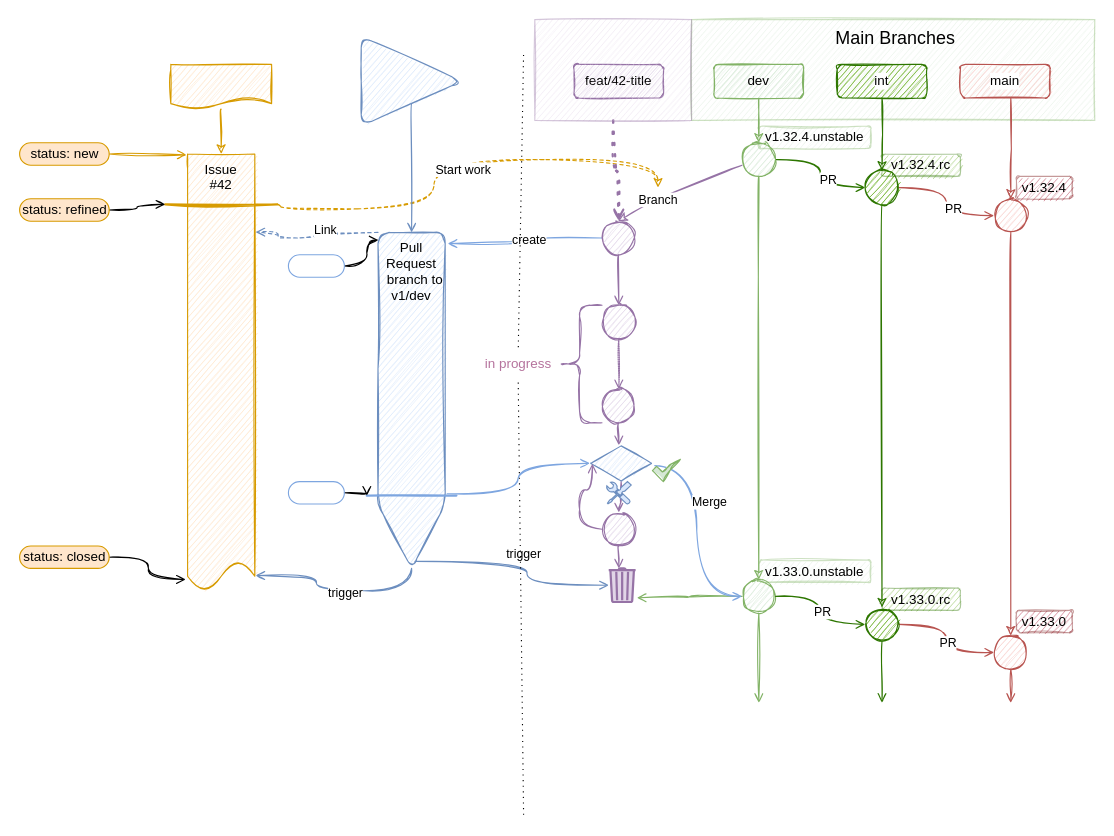
The diagram is 1114 pixels wide and 836 high, and some of its shapes have lost their labels. The shapes that lost their labels are listed below. From the top down, each one's centre as x and y in pixels, then its label:
At (x=221, y=86): "Issues".
At (x=411, y=80): "Pull Request".
At (x=613, y=69): "issue branches".
At (x=618, y=237): "1st".
At (x=315, y=265): "draft".
At (x=621, y=463): "review".
At (x=315, y=492): "ready".
At (x=621, y=585): "delete".
